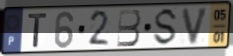2: (86, 9, 112, 49)
6: (53, 10, 75, 50)
B: (116, 8, 142, 49)
S: (152, 7, 180, 48)
T: (27, 12, 50, 49)
V: (180, 6, 211, 47)
